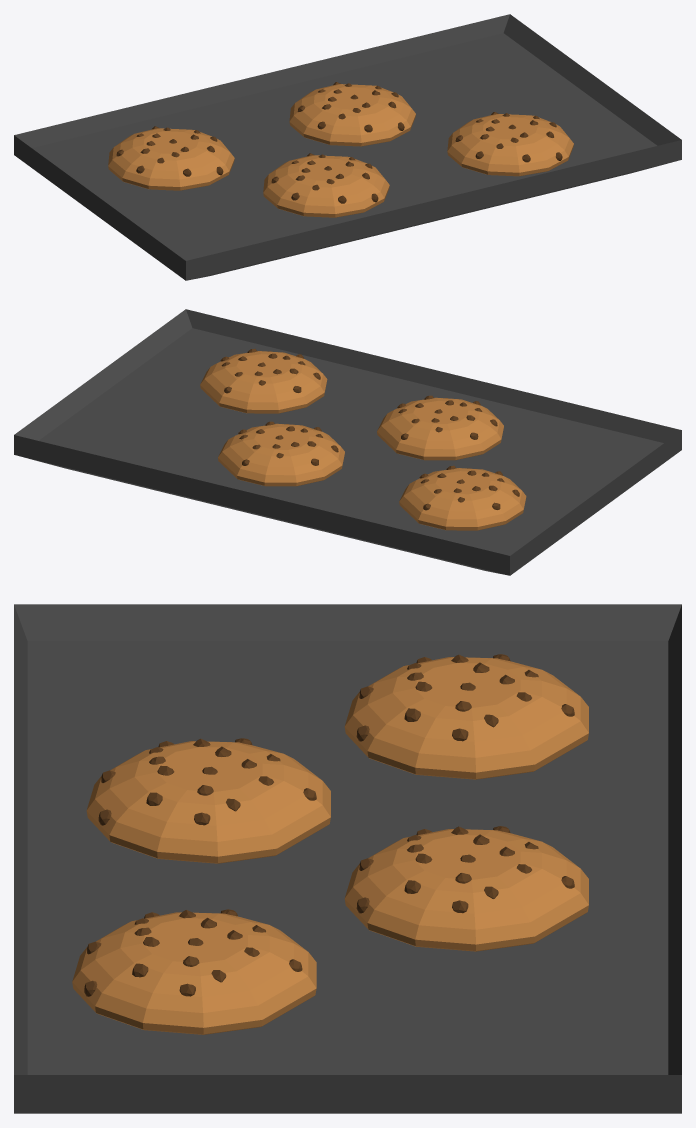
Rendered from rawMilkCookieTray.fbx.
The picture shows the model from 3 angles, top to bottom: view 1: azimuth 30°, elevation 25°; view 2: azimuth 150°, elevation 25°; view 3: azimuth 270°, elevation 25°; orthographic projection. The views are drawn at different scales.
Parts seen in each view (by area): view 1: Cube, Icosphere.004, Icosphere.002, Icosphere, Icosphere.006; view 2: Cube, Icosphere.002, Icosphere.004, Icosphere.006, Icosphere; view 3: Cube, Icosphere.006, Icosphere.002, Icosphere, Icosphere.004.
Part boxes in pixels (x1,y1,x2,y2): Cube: (14, 14, 681, 280); Icosphere.004: (289, 82, 415, 146); Icosphere.002: (263, 153, 389, 217); Icosphere: (108, 126, 234, 190); Icosphere.006: (447, 112, 573, 176); Cube: (14, 309, 681, 575); Icosphere.002: (377, 395, 503, 460); Icosphere.004: (218, 421, 344, 486); Icosphere.006: (200, 348, 327, 413); Icosphere: (399, 465, 526, 530); Cube: (14, 604, 681, 1113); Icosphere.006: (72, 909, 316, 1034); Icosphere.002: (86, 738, 330, 863); Icosphere: (344, 654, 588, 779); Icosphere.004: (344, 826, 588, 951).
Size of the model in its own units: 236 by 20.51 by 142.
